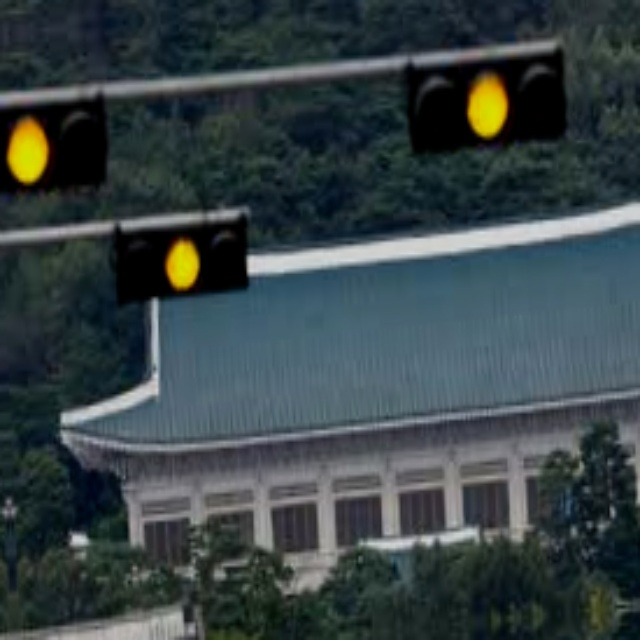yellow_light: (1, 117, 50, 187), (464, 76, 513, 140), (164, 235, 203, 291)
